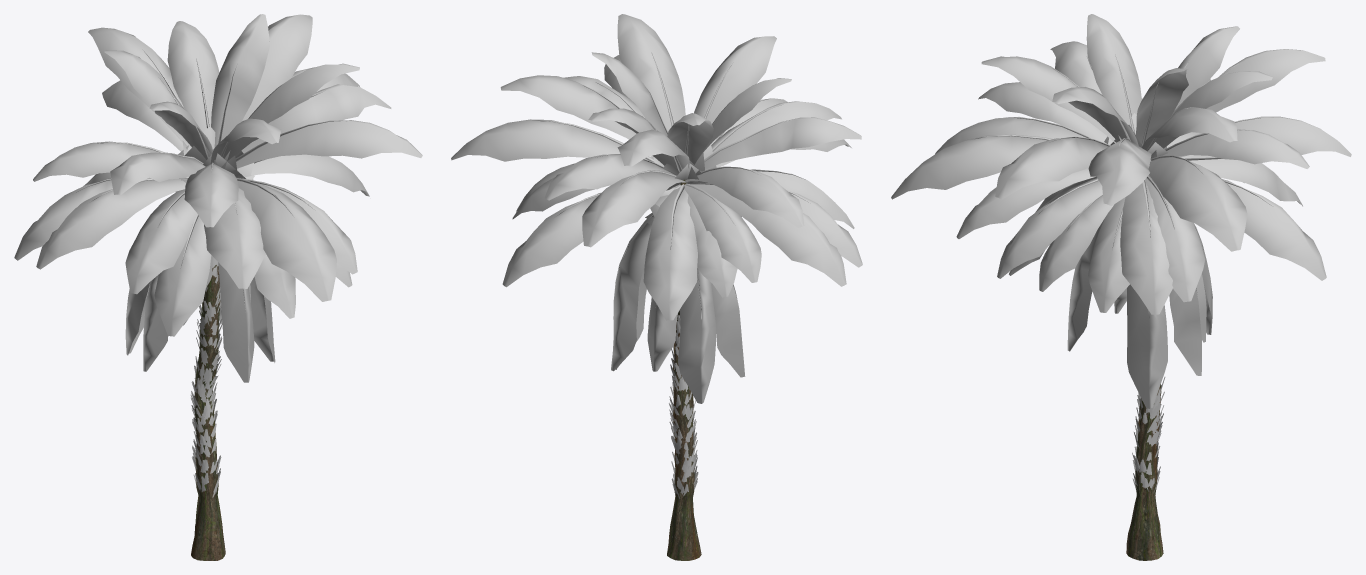
Rendered from Tree_07_1.fbx.
The picture shows the model from 3 angles, left to right: view 1: azimuth 30°, elevation 25°; view 2: azimuth 150°, elevation 25°; view 3: azimuth 270°, elevation 25°; orthographic projection. The views are drawn at different scales.
Visible parts, largest first — view 1: polySurface12; view 2: polySurface12; view 3: polySurface12.
Part boxes in pixels (box(x1,y1,x2,y2)): polySurface12: box(14, 14, 422, 560); polySurface12: box(451, 14, 862, 560); polySurface12: box(891, 14, 1351, 560).
Bounding box in the file's own units: 731 × 952 × 763.
